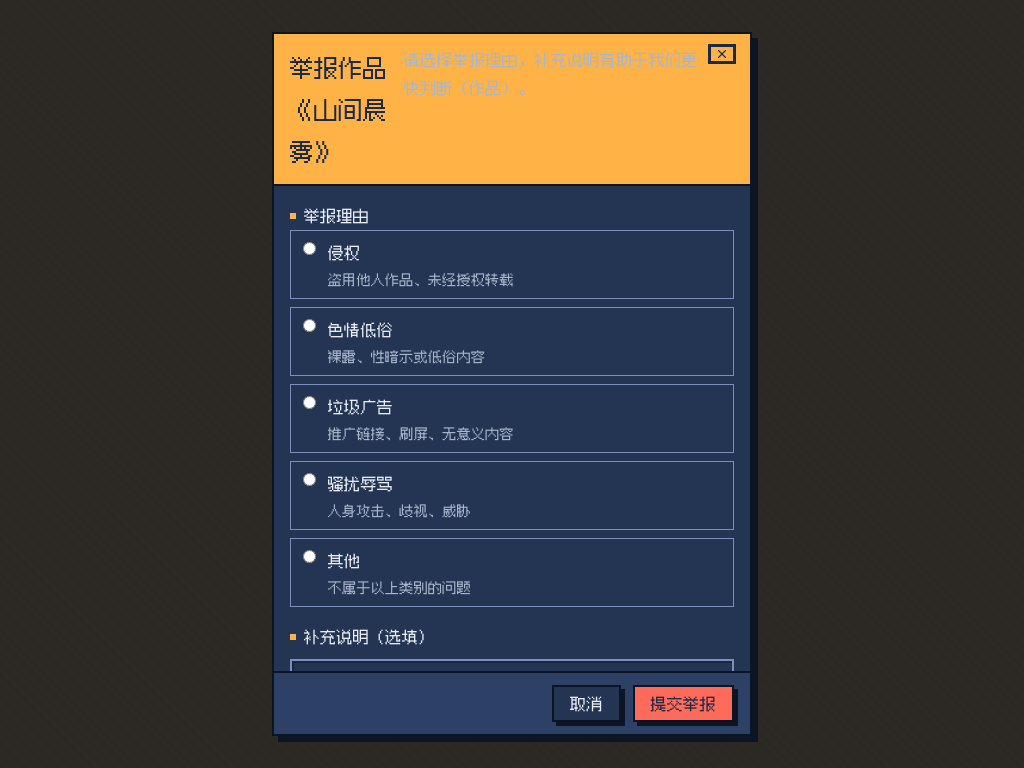
Test: ReportDialog › 接口报错时展示后端文案，对话框保留用户的选择
The width and height of the screenshot is (1024, 768).
Click the radio button labelled "垃圾广告 推广链接、刷屏、无意义内容" at (310, 402), box [303,396,316,409]
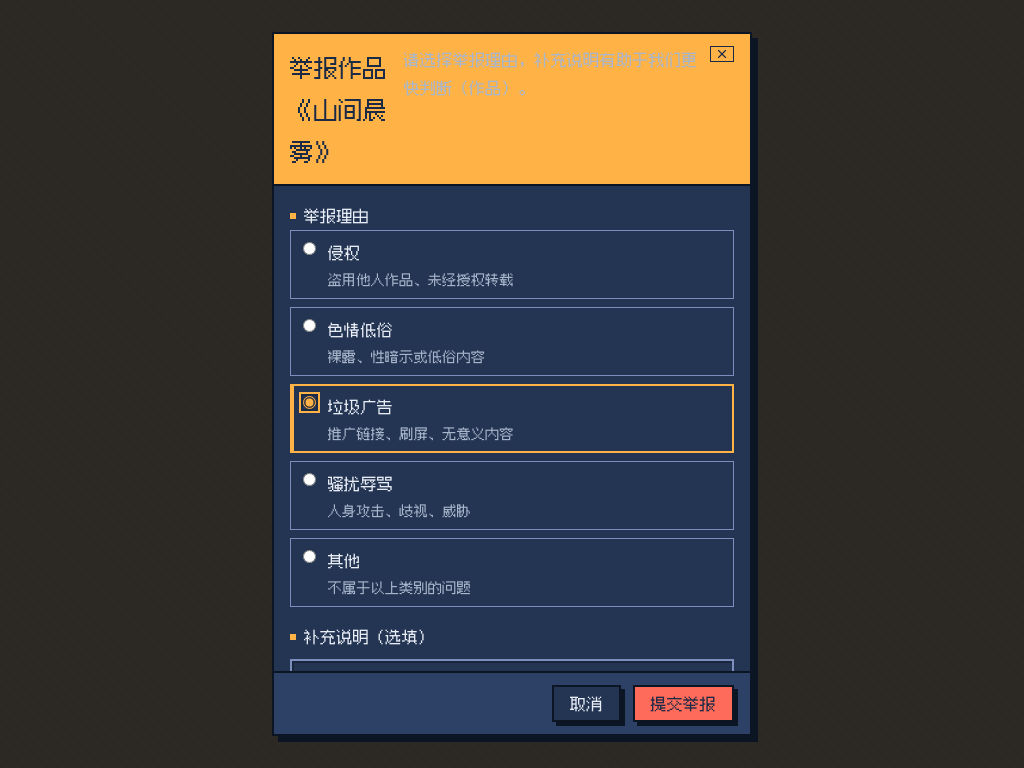
Click the button "提交举报" at (683, 703), box [633,685,734,722]
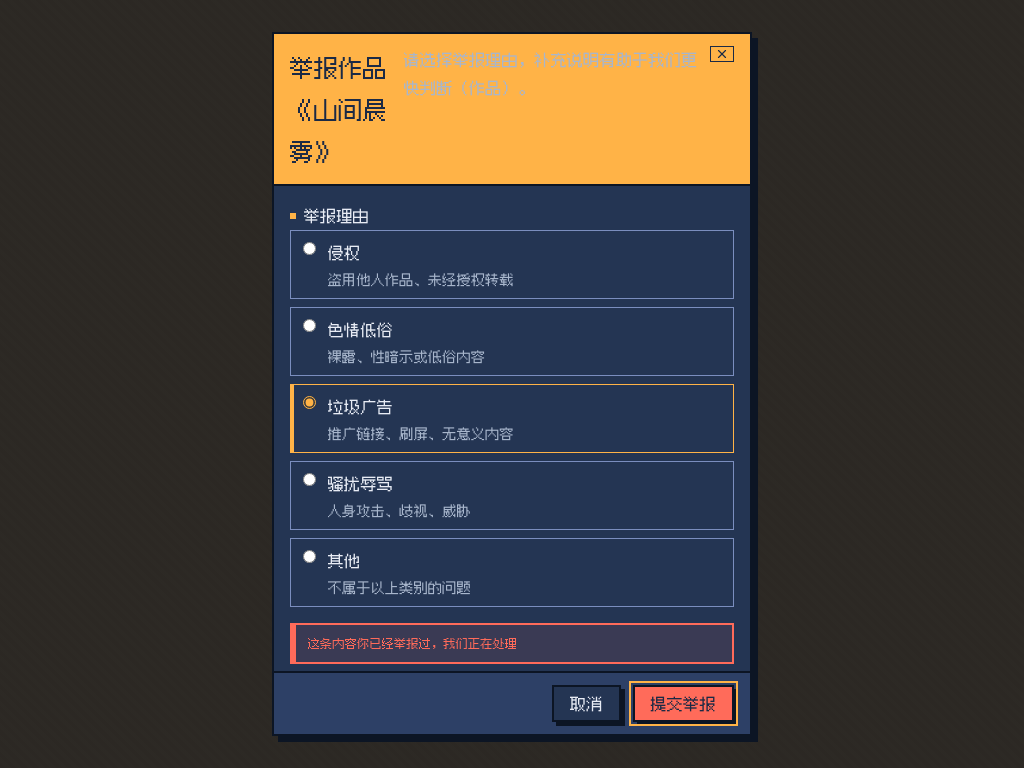
Expected: the radio button labelled "垃圾广告 推广链接、刷屏、无意义内容" is checked, [303,396,316,409]
Expected: the message reads "这条内容你已经举报过，我们正在处理", [308,635,518,651]
